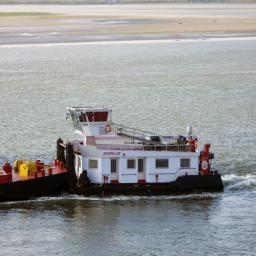tugboat: (56, 104, 227, 202)
